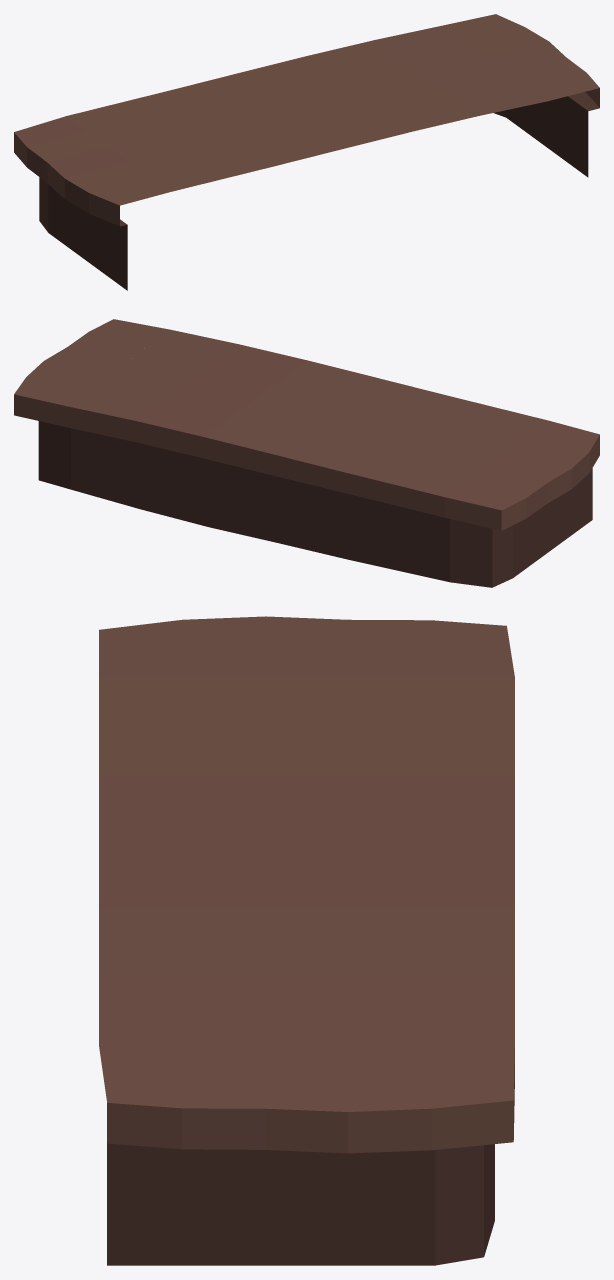
Rendered from Platform_2.fbx.
3 views of the same model, one above another, from view 1: azimuth 30°, elevation 25°; view 2: azimuth 150°, elevation 25°; view 3: azimuth 270°, elevation 25° (orthographic). The views are drawn at different scales.
Parts seen in each view (by area): view 1: Platform_2; view 2: Platform_2; view 3: Platform_2.
Boxes of the visible parts, x1,y1,x2,y2 form: Platform_2: (14, 14, 599, 290); Platform_2: (14, 319, 599, 587); Platform_2: (99, 616, 514, 1265).
Bounding box in the file's own units: 589 × 104 × 210.
1 material, 1 textured.
